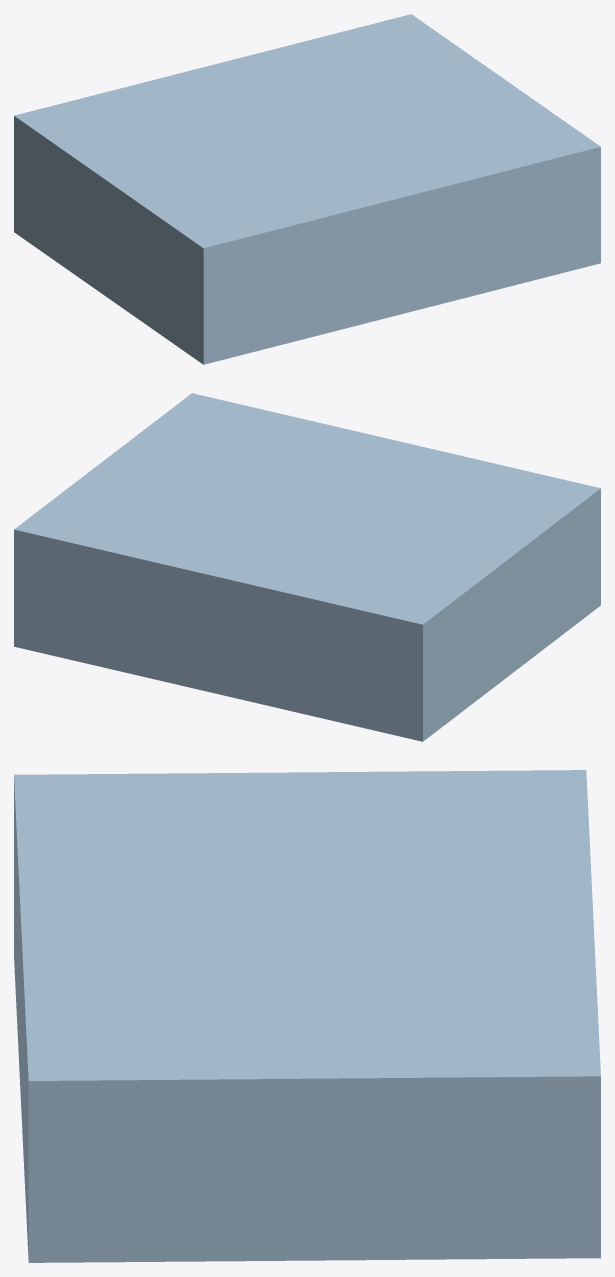
File: osm_way_225092103.glb
3 renders of one model, top to bottom at view 1: azimuth 30°, elevation 25°; view 2: azimuth 150°, elevation 25°; view 3: azimuth 270°, elevation 25°, orthographic. The views are drawn at different scales.
Parts seen in each view (by area): view 1: osm_way_225092103; view 2: osm_way_225092103; view 3: osm_way_225092103.
Boxes of the visible parts, x1,y1,x2,y2 form: osm_way_225092103: (14,14,600,364); osm_way_225092103: (14,393,600,741); osm_way_225092103: (14,770,600,1262).
Size of the model in its own units: 14.67 by 4 by 11.7.
